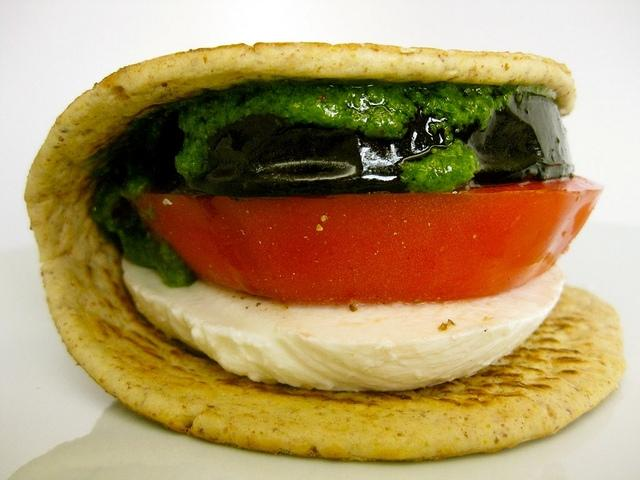tomato: (130, 175, 603, 304)
